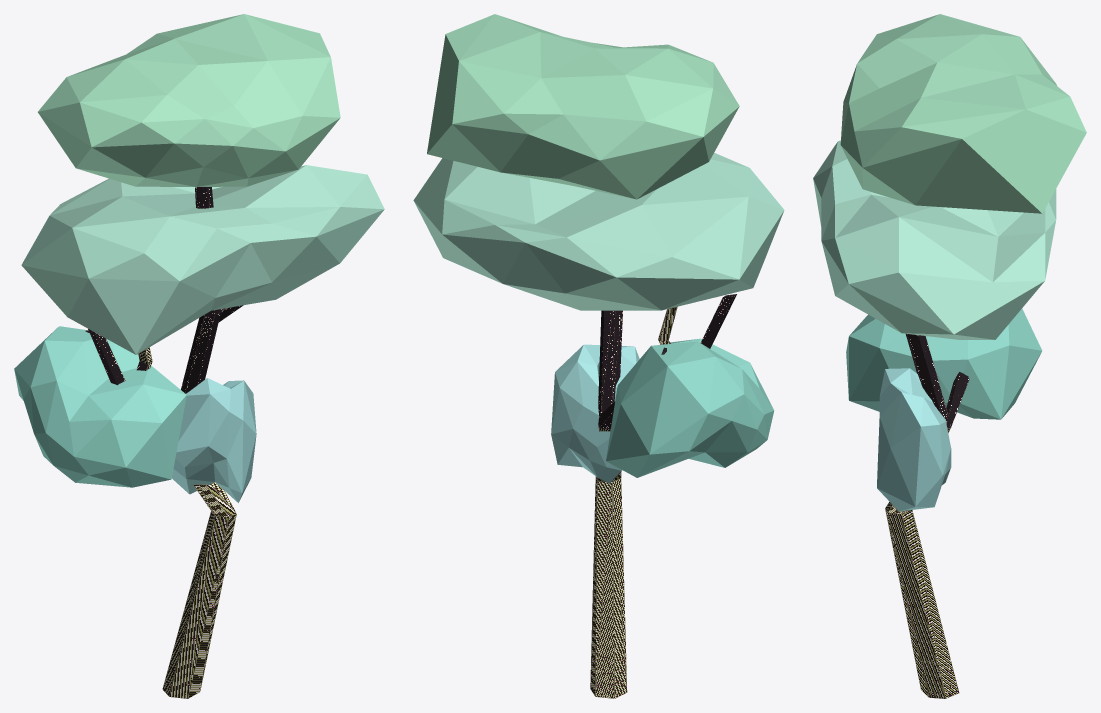
File: LPTree_Tree_Type3_05_Model_ultra_fast_instanced_l1_superhigh.glb
3 views of the same model, side by side, from view 1: azimuth 30°, elevation 25°; view 2: azimuth 150°, elevation 25°; view 3: azimuth 270°, elevation 25° (orthographic). The views are drawn at different scales.
Parts seen in each view (by area): view 1: Tree Type3 05 Model; view 2: Tree Type3 05 Model; view 3: Tree Type3 05 Model.
Part boxes in pixels (left/top/right/bottom): Tree Type3 05 Model: left=14, top=14, right=384, bottom=698; Tree Type3 05 Model: left=413, top=14, right=784, bottom=698; Tree Type3 05 Model: left=813, top=14, right=1086, bottom=698.
Size of the model in its own units: 3.48 by 6.29 by 2.44.
5 materials, 1 textured.
